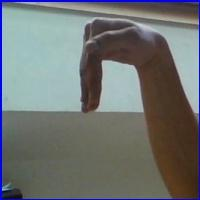del: (74, 17, 177, 124)
